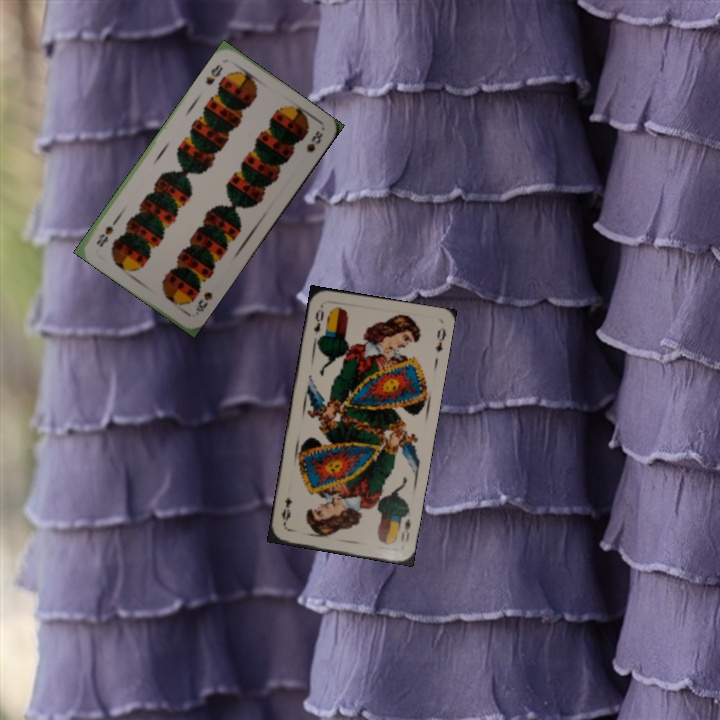EO: (309, 302, 327, 343), (397, 515, 413, 544)
S8: (191, 288, 215, 318), (202, 60, 225, 87)
